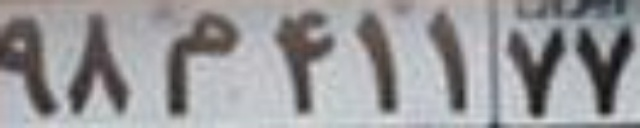1: (420, 8, 471, 110), (351, 9, 398, 113)
4: (275, 10, 335, 112)
7: (572, 22, 636, 115), (509, 26, 566, 117)
8: (67, 12, 131, 115)
9: (0, 12, 57, 113)
mim: (162, 10, 241, 117)
